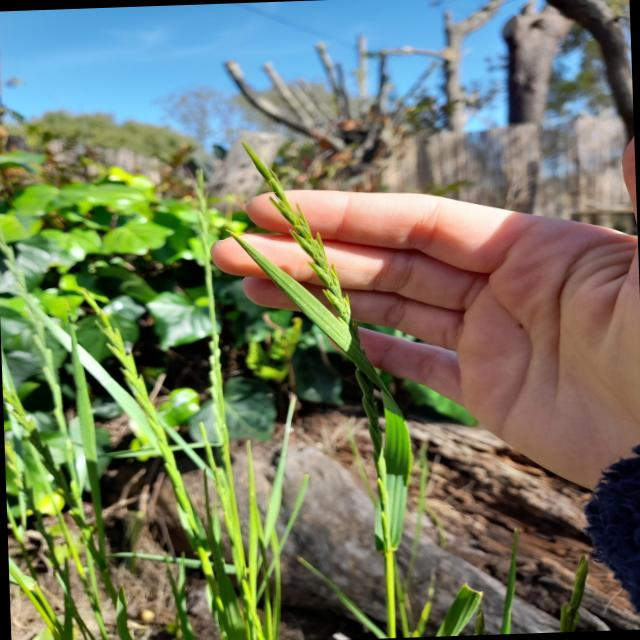Lolium: (204, 131, 425, 640), (76, 291, 235, 633), (31, 293, 99, 636)
